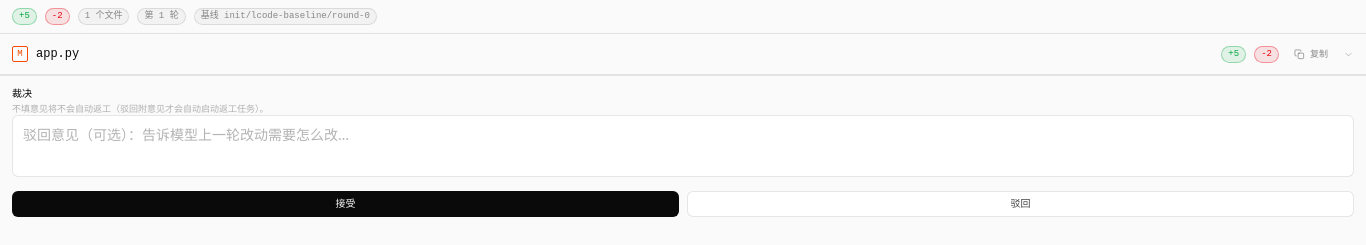
Scenario: DiffReviewPanel · 裁决提交 › 提交失败：错误（code）文案 + 驳回输入保留
This screenshot has width=1366, height=245.
In the text box with test id "diff-verdict-feedback": point(683, 146) [12, 115, 1354, 177], type "先不要合"
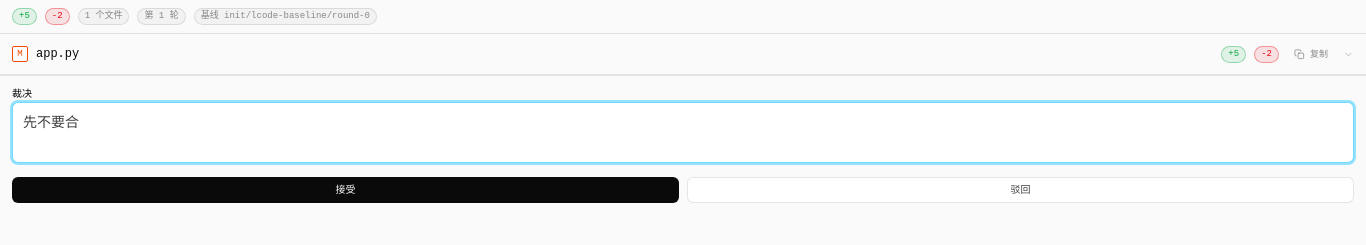
Click the button with test id "diff-verdict-reject": point(1020, 190) [687, 177, 1354, 203]
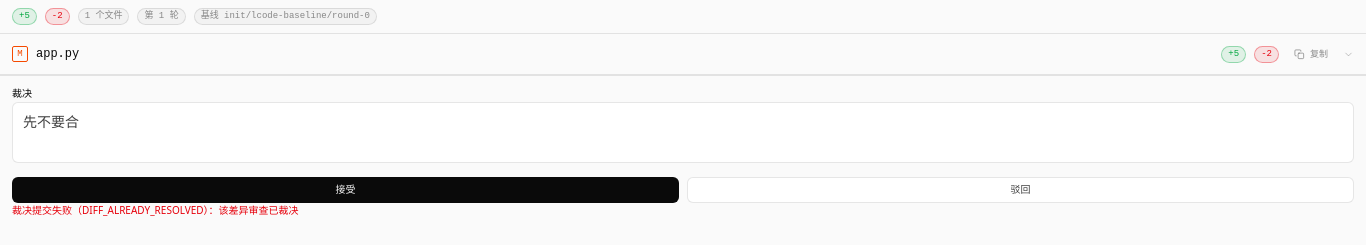
Expected: the message with test id "diff-verdict-error" reads "裁决提交失败（DIFF_ALREADY_RESOLVED）：该差异审查已裁决", [12, 203, 299, 217]
